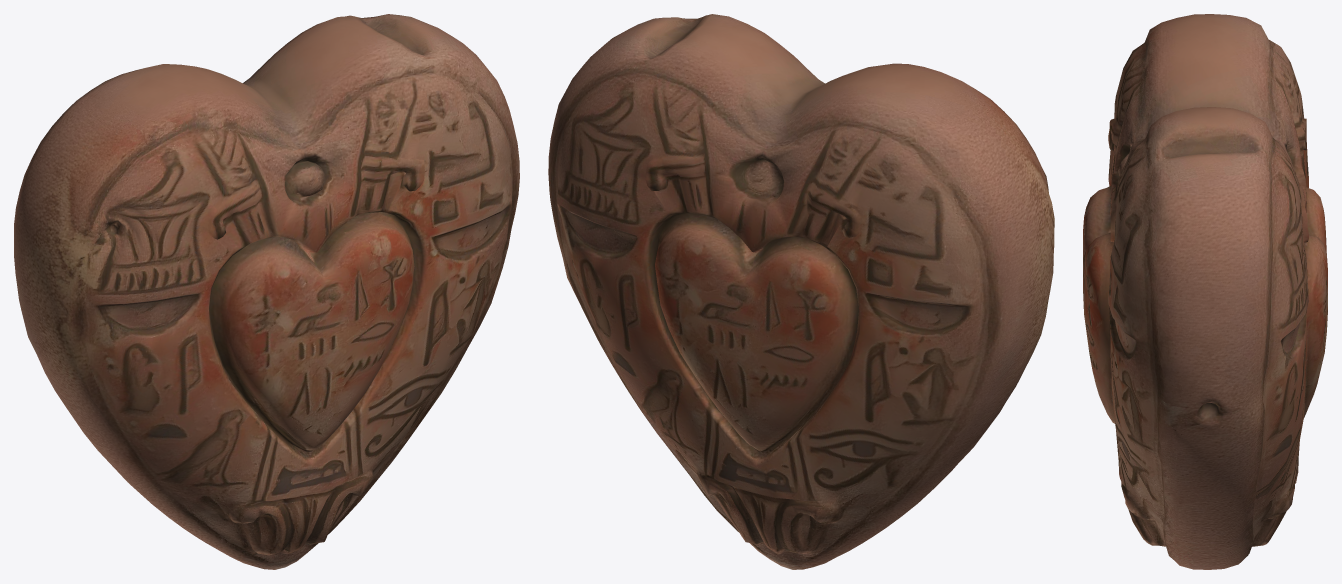
3 views of the same model, side by side, from view 1: azimuth 30°, elevation 25°; view 2: azimuth 150°, elevation 25°; view 3: azimuth 270°, elevation 25° (orthographic). The views are drawn at different scales.
Visible parts, largest first — view 1: tripo_node_3ca0f47f-c675-4d66-83b3-fca7ad5bd99e; view 2: tripo_node_3ca0f47f-c675-4d66-83b3-fca7ad5bd99e; view 3: tripo_node_3ca0f47f-c675-4d66-83b3-fca7ad5bd99e.
Boxes of the visible parts, box(x1,y1,x2,y2) form: tripo_node_3ca0f47f-c675-4d66-83b3-fca7ad5bd99e: box(14, 14, 519, 569); tripo_node_3ca0f47f-c675-4d66-83b3-fca7ad5bd99e: box(548, 14, 1054, 569); tripo_node_3ca0f47f-c675-4d66-83b3-fca7ad5bd99e: box(1083, 14, 1327, 569).
Bounding box in the file's own units: 0.9707 × 0.998 × 0.4512.
Materials: 1 (1 with a texture image).
